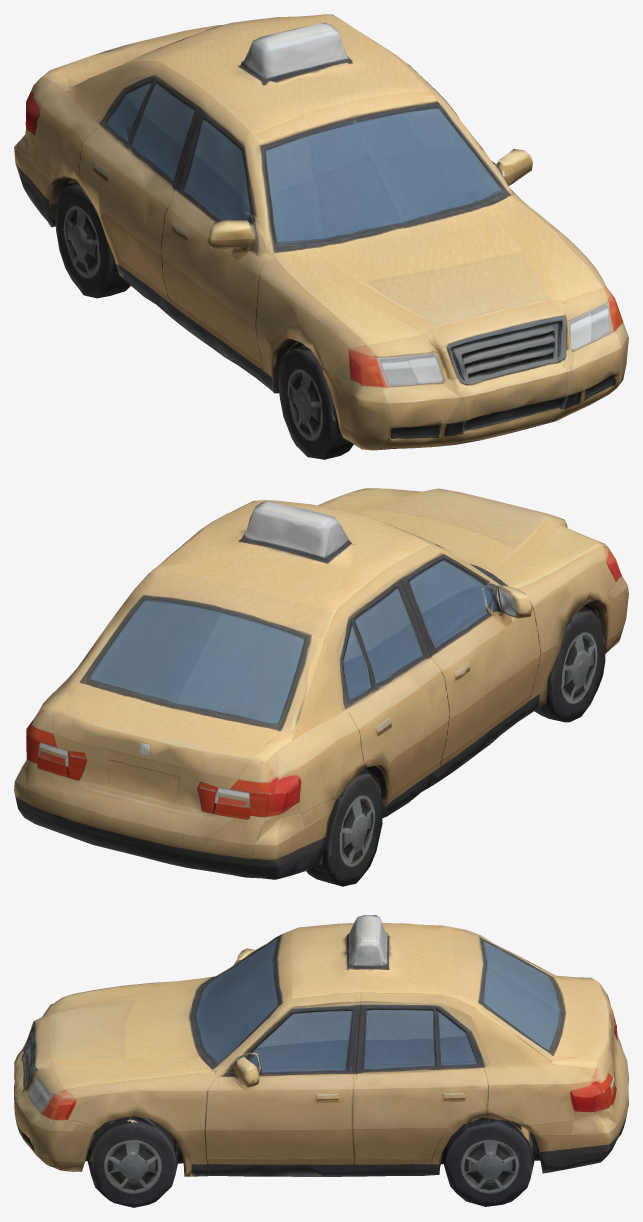
The model's file is Car_Taxi_01.glb.
The picture shows the model from 3 angles, top to bottom: view 1: azimuth 30°, elevation 25°; view 2: azimuth 150°, elevation 25°; view 3: azimuth 270°, elevation 25°; orthographic projection. The views are drawn at different scales.
Visible parts, largest first — view 1: texture_mapping; view 2: texture_mapping; view 3: texture_mapping.
Boxes of the visible parts, box(x1,y1,x2,y2) form: texture_mapping: box(14, 14, 628, 459); texture_mapping: box(14, 488, 628, 886); texture_mapping: box(14, 915, 628, 1207).
Bounding box in the file's own units: 0.4893 × 0.4096 × 1.
1 material, 1 textured.
